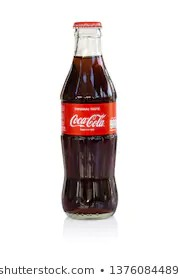coke-glass-bottle: (54, 16, 122, 213)
